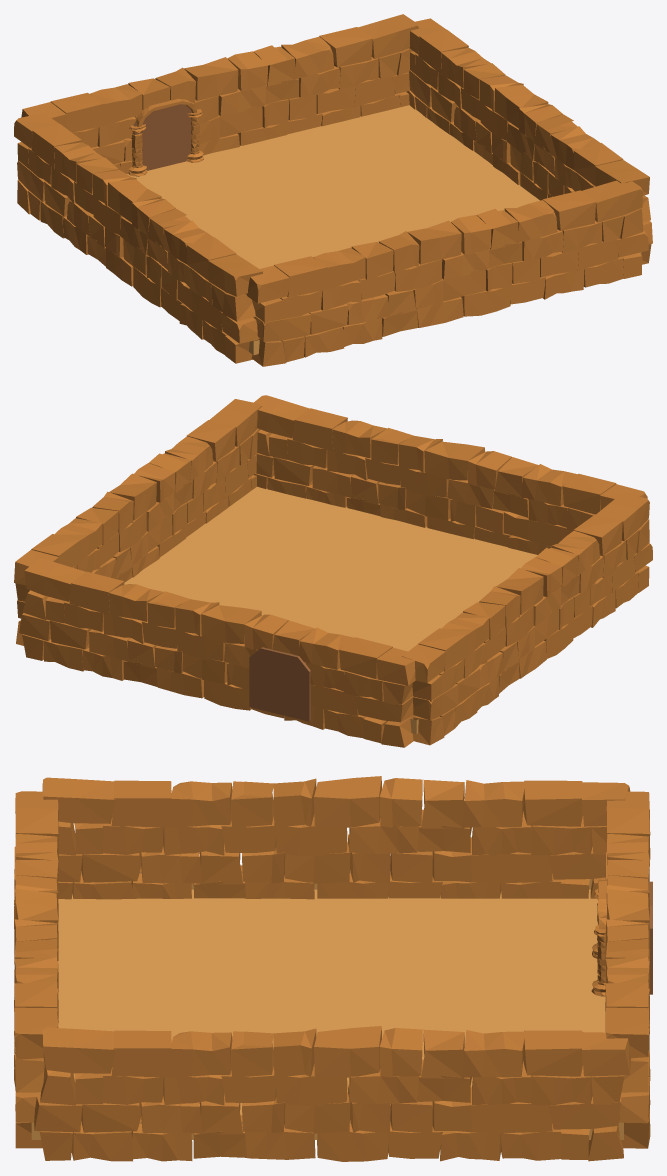
3 renders of one model, top to bottom at view 1: azimuth 30°, elevation 25°; view 2: azimuth 150°, elevation 25°; view 3: azimuth 270°, elevation 25°, orthographic. The views are drawn at different scales.
Visible parts, largest first — view 1: Cube.068; view 2: Cube.068; view 3: Cube.068.
Boxes of the visible parts, x1,y1,x2,y2 form: Cube.068: (14,14,652,366); Cube.068: (14,395,652,747); Cube.068: (14,776,652,1161).
Bounding box in the file's own units: 11.02 × 2.26 × 11.07.
